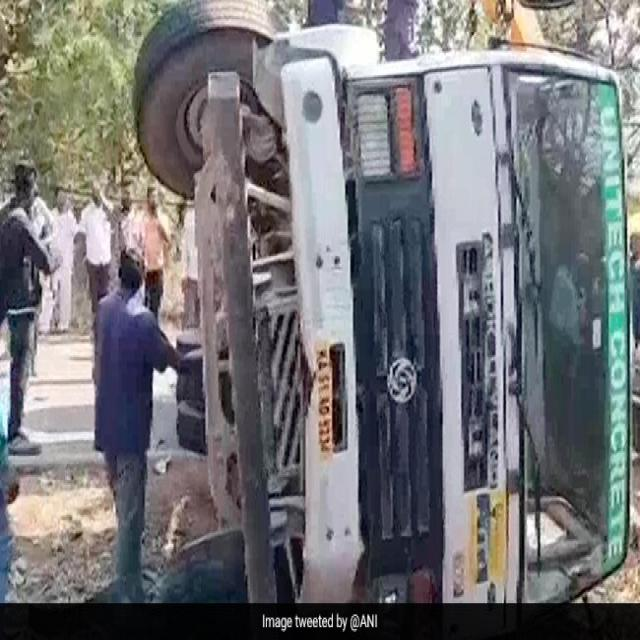accident: (134, 0, 630, 602)
